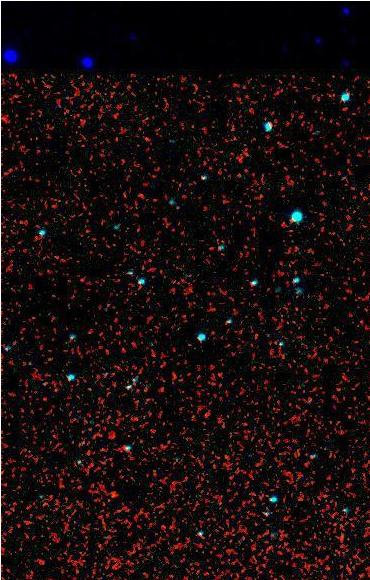star: (98, 482, 128, 512)
